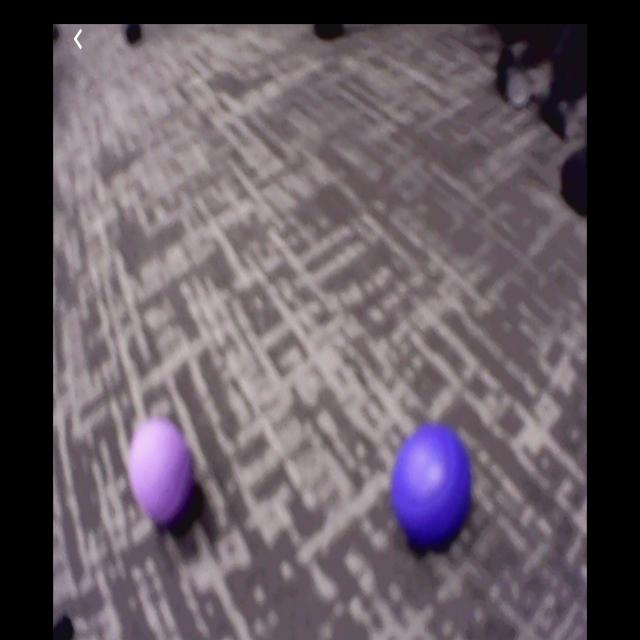ball: (393, 422, 474, 545), (132, 418, 195, 524)
